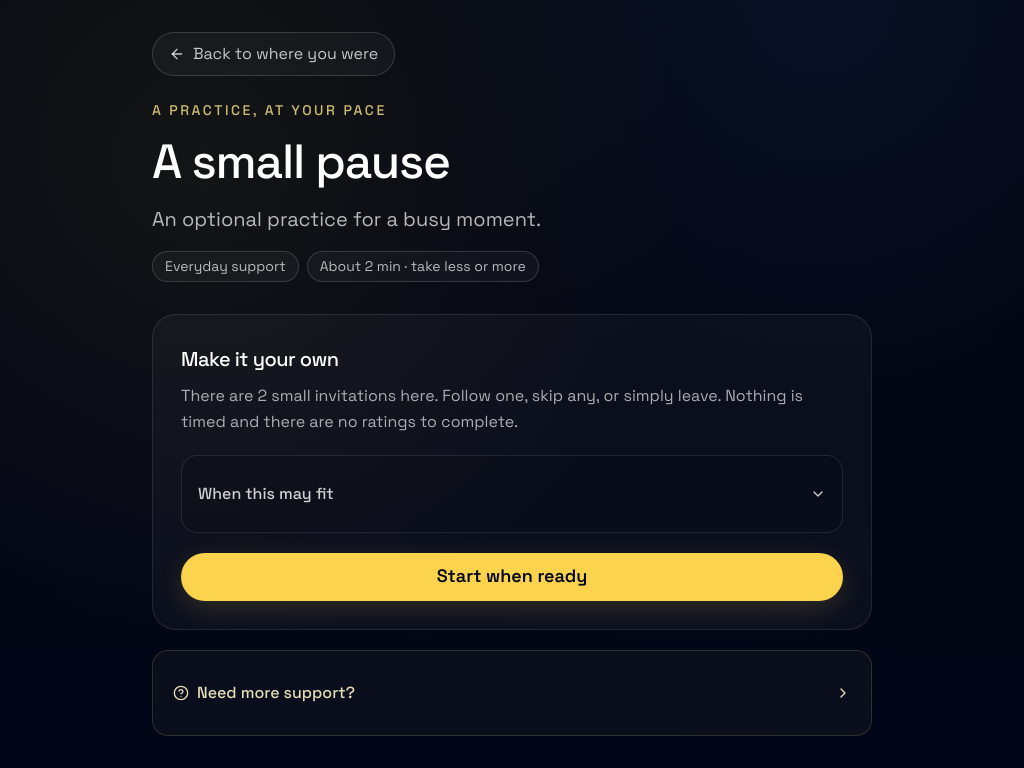
Test case: ToolProtocolView › can skip an idea and finish without storing subjective ratings
Click the button "Start when ready" at (512, 577), box [181, 553, 843, 601]
(page scrolled)
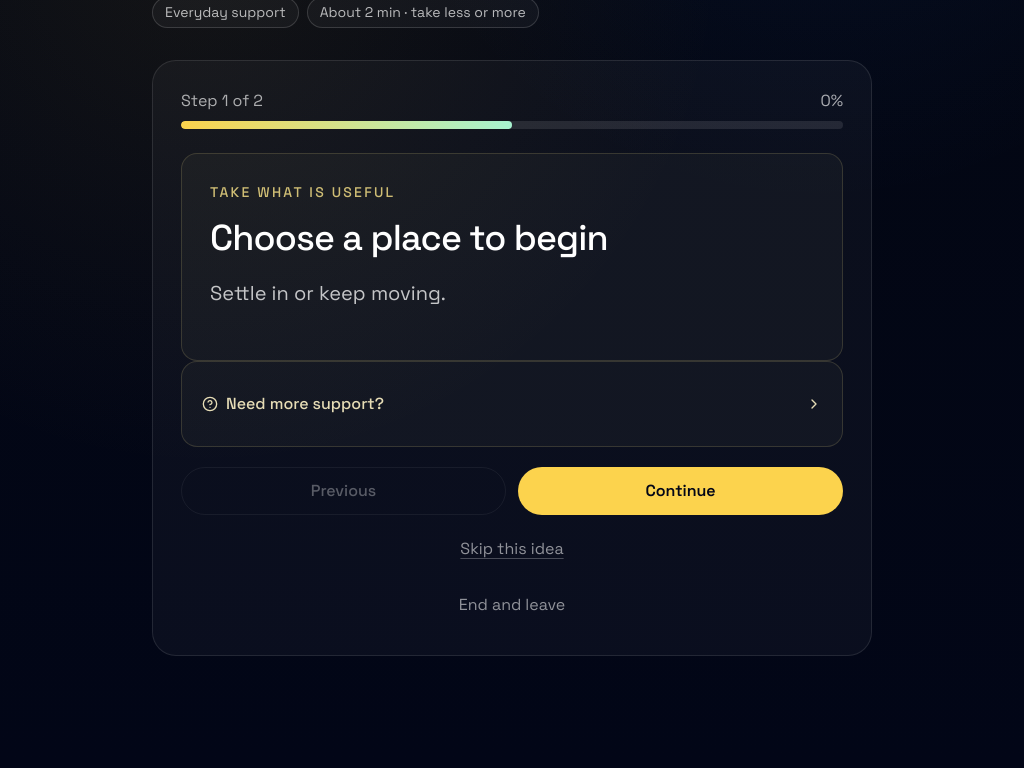
Click the button "Skip this idea" at (512, 549), box [181, 527, 843, 571]
(page scrolled)
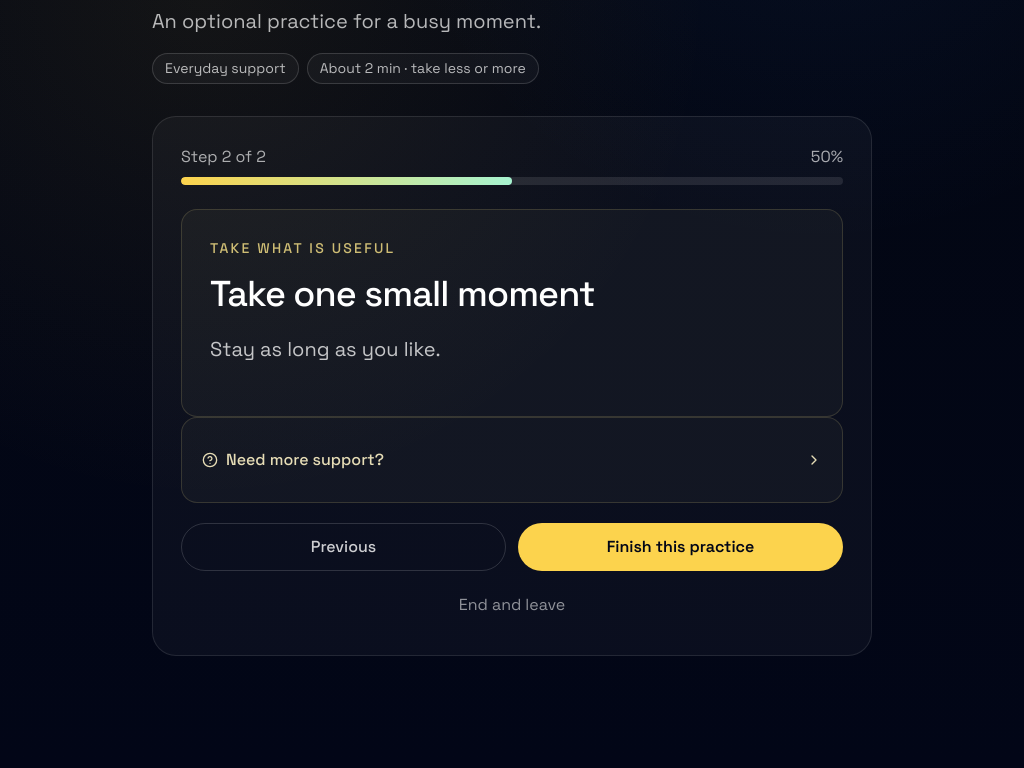
Result: the heading "Take one small moment" is shown at [210, 271, 595, 317]
Click the button "Finish this practice" at (680, 547), box [518, 523, 843, 571]
(page scrolled)
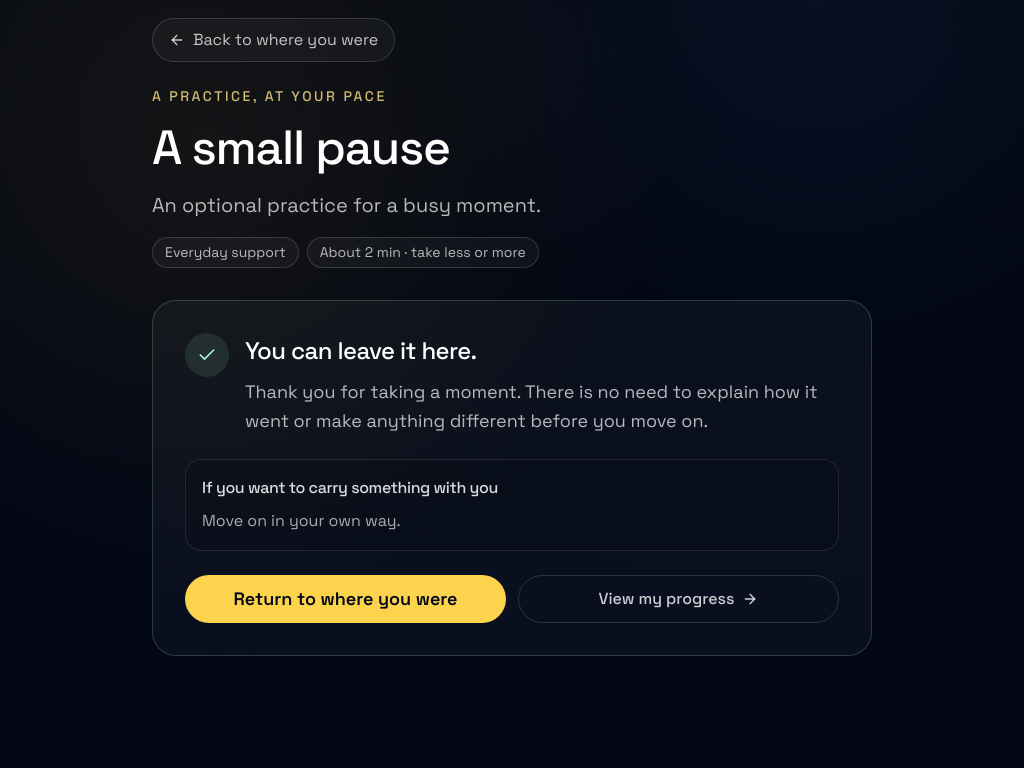
Result: the heading "You can leave it here." is shown at [245, 335, 477, 366]
Result: the list item "Move on in your own way." is shown at [202, 510, 400, 531]
